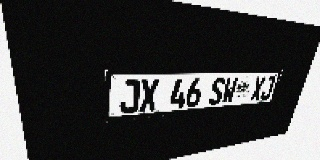4: (169, 78, 189, 109)
6: (185, 78, 204, 108)
J: (119, 79, 140, 114), (260, 76, 276, 100)
S: (208, 77, 226, 105)
W: (221, 77, 238, 104)
X: (139, 79, 159, 112), (250, 76, 266, 101)
